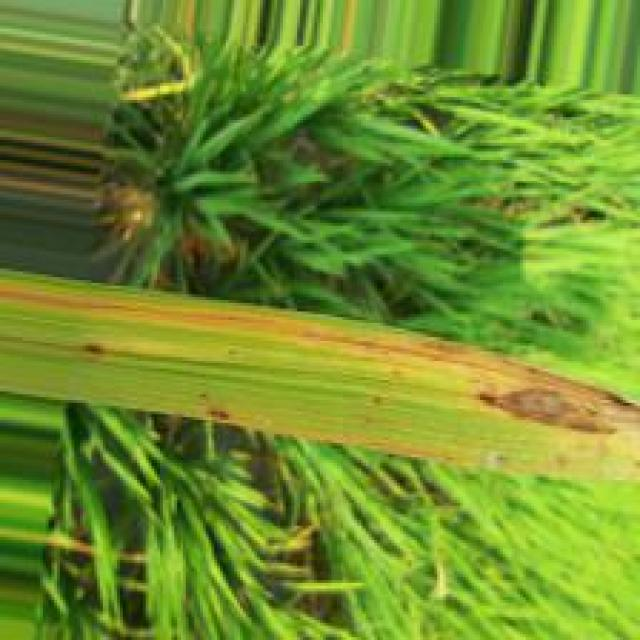Leaf_Blast: (509, 356, 640, 429), (474, 383, 631, 437)
